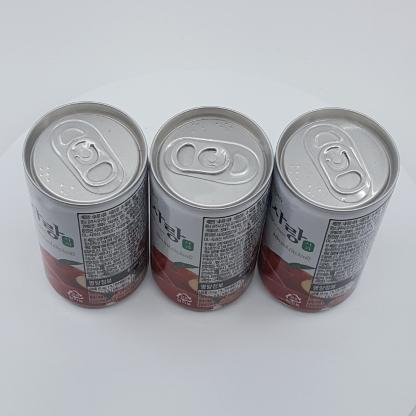-------180ML: (256, 107, 400, 312), (22, 101, 149, 307), (149, 105, 274, 311)
